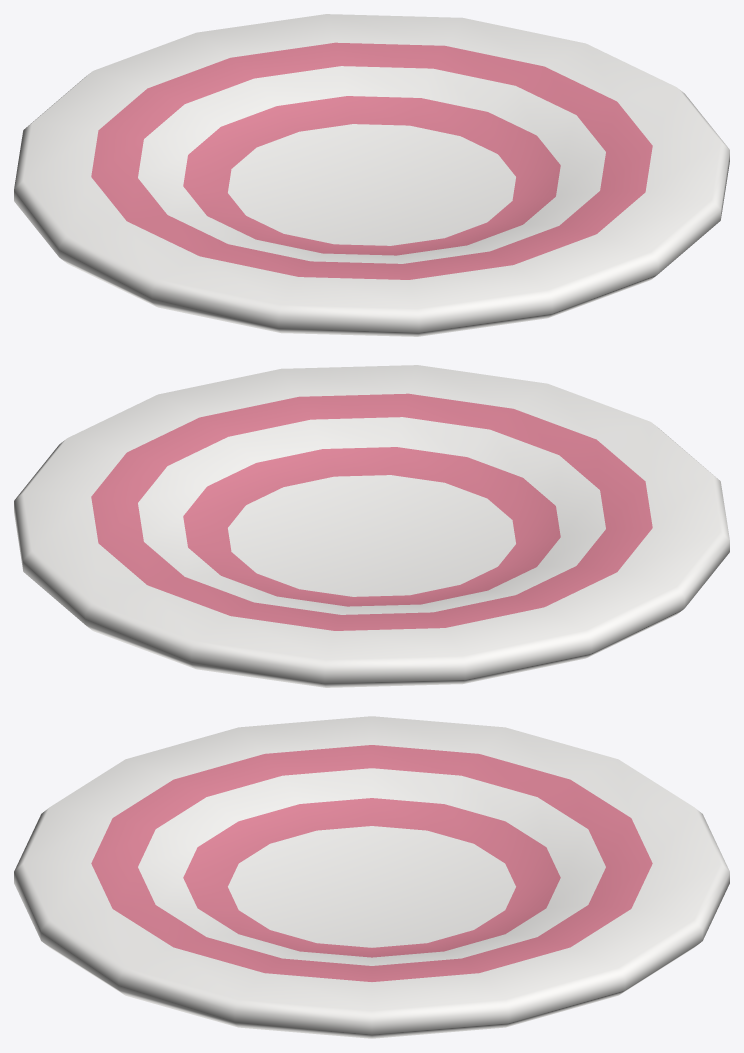
File: Plate_8.glb
3 renders of one model, top to bottom at view 1: azimuth 30°, elevation 25°; view 2: azimuth 150°, elevation 25°; view 3: azimuth 270°, elevation 25°, orthographic.
Visible parts, largest first — view 1: Plate_8; view 2: Plate_8; view 3: Plate_8.
Part boxes in pixels (x1=…): Plate_8: x1=14, y1=14, x2=729, y2=336; Plate_8: x1=14, y1=365, x2=729, y2=687; Plate_8: x1=14, y1=716, x2=729, y2=1038.
Bounding box in the file's own units: 0.2615 × 0.0227 × 0.2615.
Materials: 1 (1 with a texture image).
